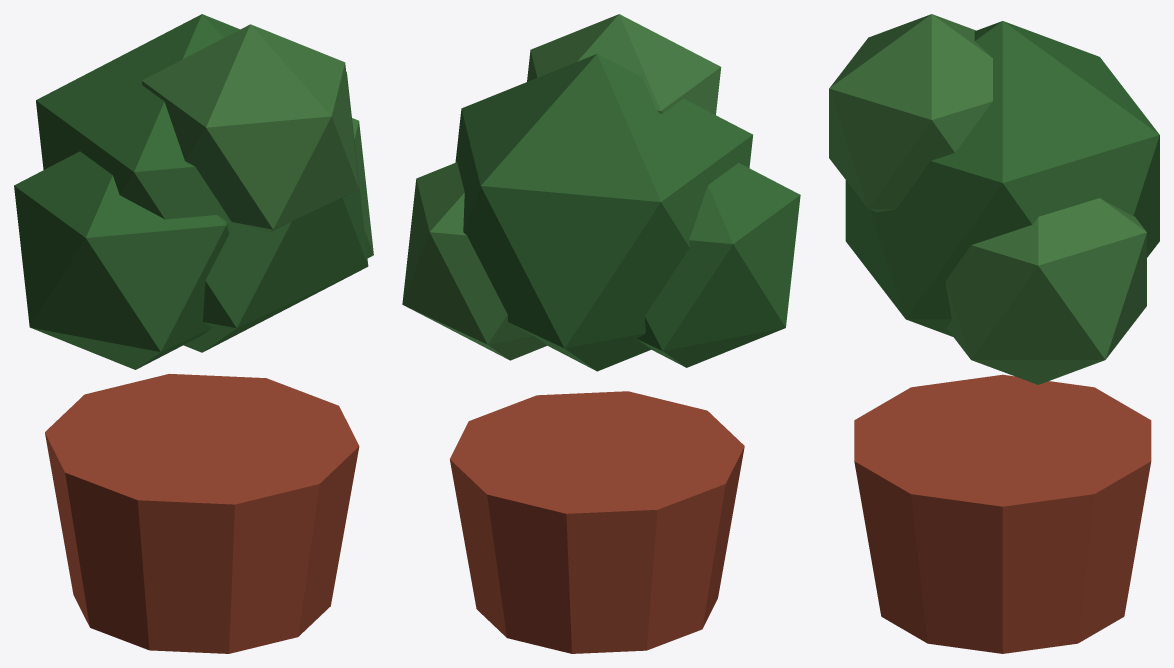
File: chau_bui.glb
The picture shows the model from 3 angles, left to right: view 1: azimuth 30°, elevation 25°; view 2: azimuth 150°, elevation 25°; view 3: azimuth 270°, elevation 25°; orthographic projection. The views are drawn at different scales.
Visible parts, largest first — view 1: chau_bui; view 2: chau_bui; view 3: chau_bui.
Part boxes in pixels (left/top/right/bottom): chau_bui: left=14, top=14, right=373, bottom=653; chau_bui: left=402, top=14, right=800, bottom=653; chau_bui: left=829, top=14, right=1159, bottom=653.
Size of the model in its own units: 0.5809 by 0.92 by 0.4658.
